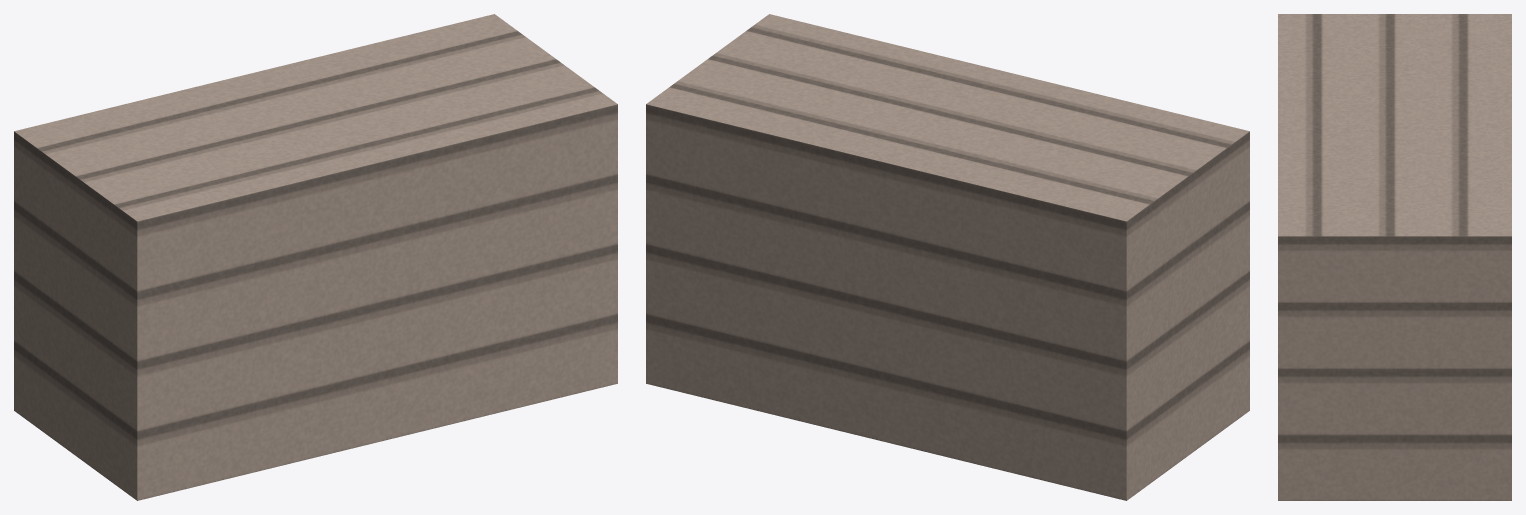
File: stand_mixer_airfryer_winefridge.glb
3 renders of one model, left to right at view 1: azimuth 30°, elevation 25°; view 2: azimuth 150°, elevation 25°; view 3: azimuth 270°, elevation 25°, orthographic. The views are drawn at different scales.
Visible parts, largest first — view 1: stand_mixer_airfryer_winefridge-col; view 2: stand_mixer_airfryer_winefridge-col; view 3: stand_mixer_airfryer_winefridge-col.
Part boxes in pixels (x1,y1,x2,y2): stand_mixer_airfryer_winefridge-col: (14, 14, 617, 500); stand_mixer_airfryer_winefridge-col: (646, 14, 1249, 500); stand_mixer_airfryer_winefridge-col: (1278, 14, 1511, 500).
Size of the model in its own units: 0.9 by 0.5 by 0.4.
Materials: 1 (1 with a texture image).
